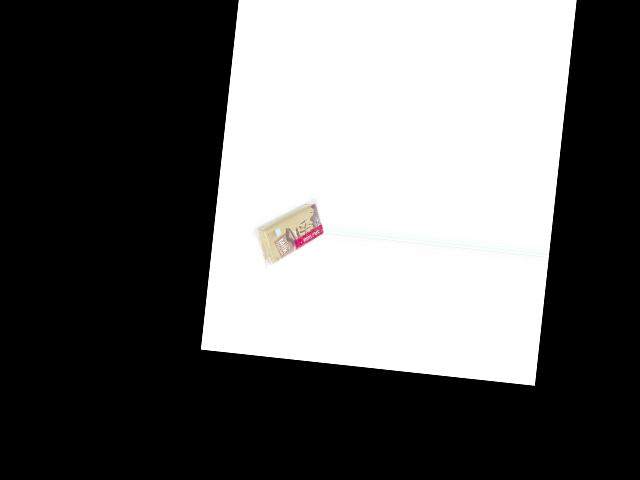chocolate: (251, 196, 325, 277)
